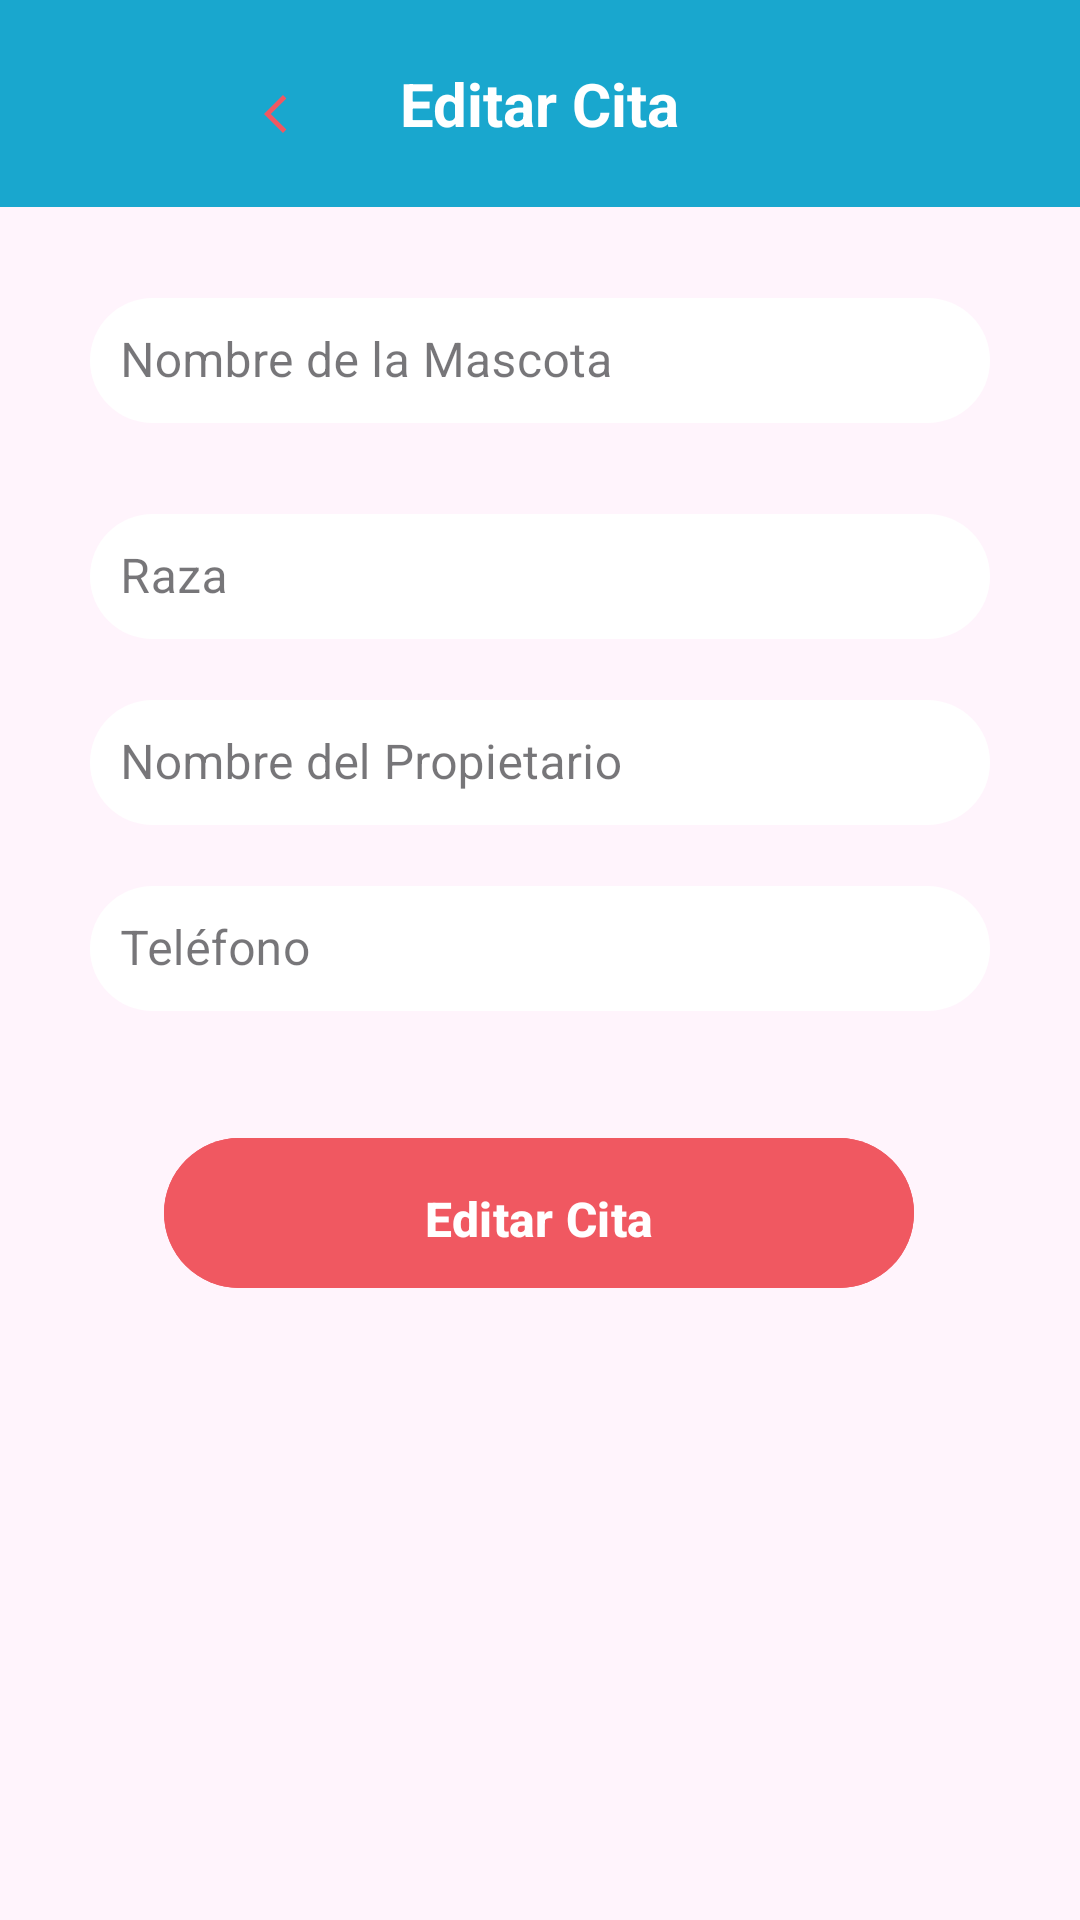

Where icons sit on this 1080×1920 app screen, as bbox=[x1, y1, x2, y2]:
back: bbox=[264, 95, 287, 133]
